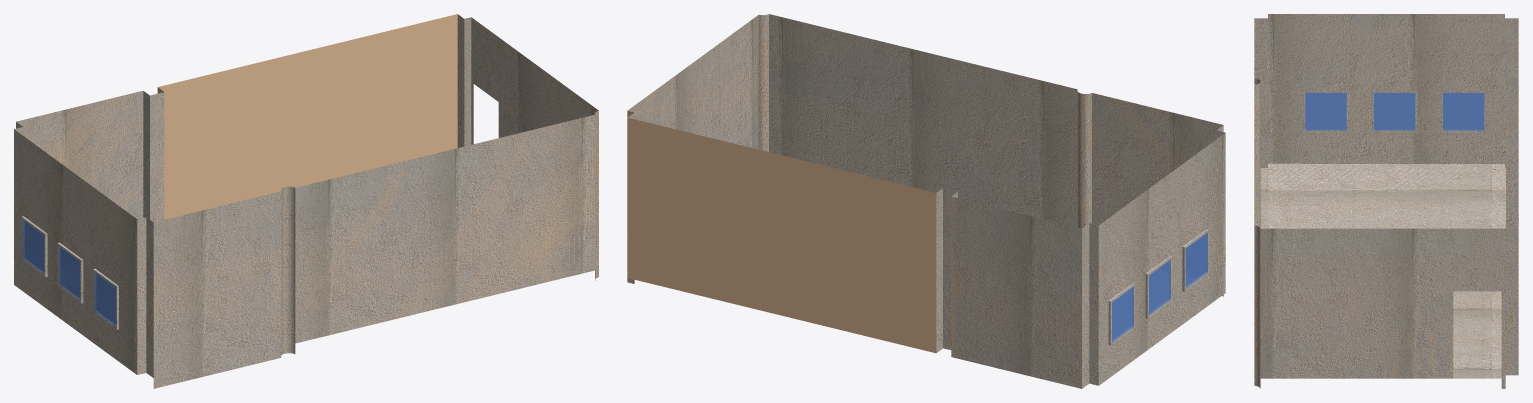
The model's file is AUL026.obj.
3 views of the same model, side by side, from view 1: azimuth 30°, elevation 25°; view 2: azimuth 150°, elevation 25°; view 3: azimuth 270°, elevation 25° (orthographic). The views are drawn at different scales.
Visible parts, largest first — view 1: Mesh10 AUL026 Model, Mesh7 Group3 AUL026 Model, Mesh1 Group1 AUL026 Model, Mesh4 Group2 AUL026 Model; view 2: Mesh10 AUL026 Model, Mesh1 Group1 AUL026 Model, Mesh7 Group3 AUL026 Model, Mesh4 Group2 AUL026 Model; view 3: Mesh10 AUL026 Model, Mesh1 Group1 AUL026 Model, Mesh7 Group3 AUL026 Model, Mesh4 Group2 AUL026 Model.
Part boxes in pixels (left/top/right/bottom): Mesh10 AUL026 Model: left=14, top=14, right=598, bottom=388; Mesh7 Group3 AUL026 Model: left=21, top=216, right=47, bottom=277; Mesh1 Group1 AUL026 Model: left=57, top=242, right=83, bottom=303; Mesh4 Group2 AUL026 Model: left=93, top=268, right=118, bottom=329; Mesh10 AUL026 Model: left=627, top=14, right=1225, bottom=388; Mesh1 Group1 AUL026 Model: left=1145, top=255, right=1172, bottom=318; Mesh7 Group3 AUL026 Model: left=1108, top=282, right=1135, bottom=345; Mesh4 Group2 AUL026 Model: left=1182, top=229, right=1208, bottom=291; Mesh10 AUL026 Model: left=1254, top=14, right=1518, bottom=388; Mesh1 Group1 AUL026 Model: left=1371, top=91, right=1417, bottom=132; Mesh7 Group3 AUL026 Model: left=1440, top=91, right=1486, bottom=132; Mesh4 Group2 AUL026 Model: left=1303, top=91, right=1348, bottom=132.
Bounding box in the file's own units: 11.12 × 3.85 × 5.76.
Materials: 6 (2 with a texture image).
